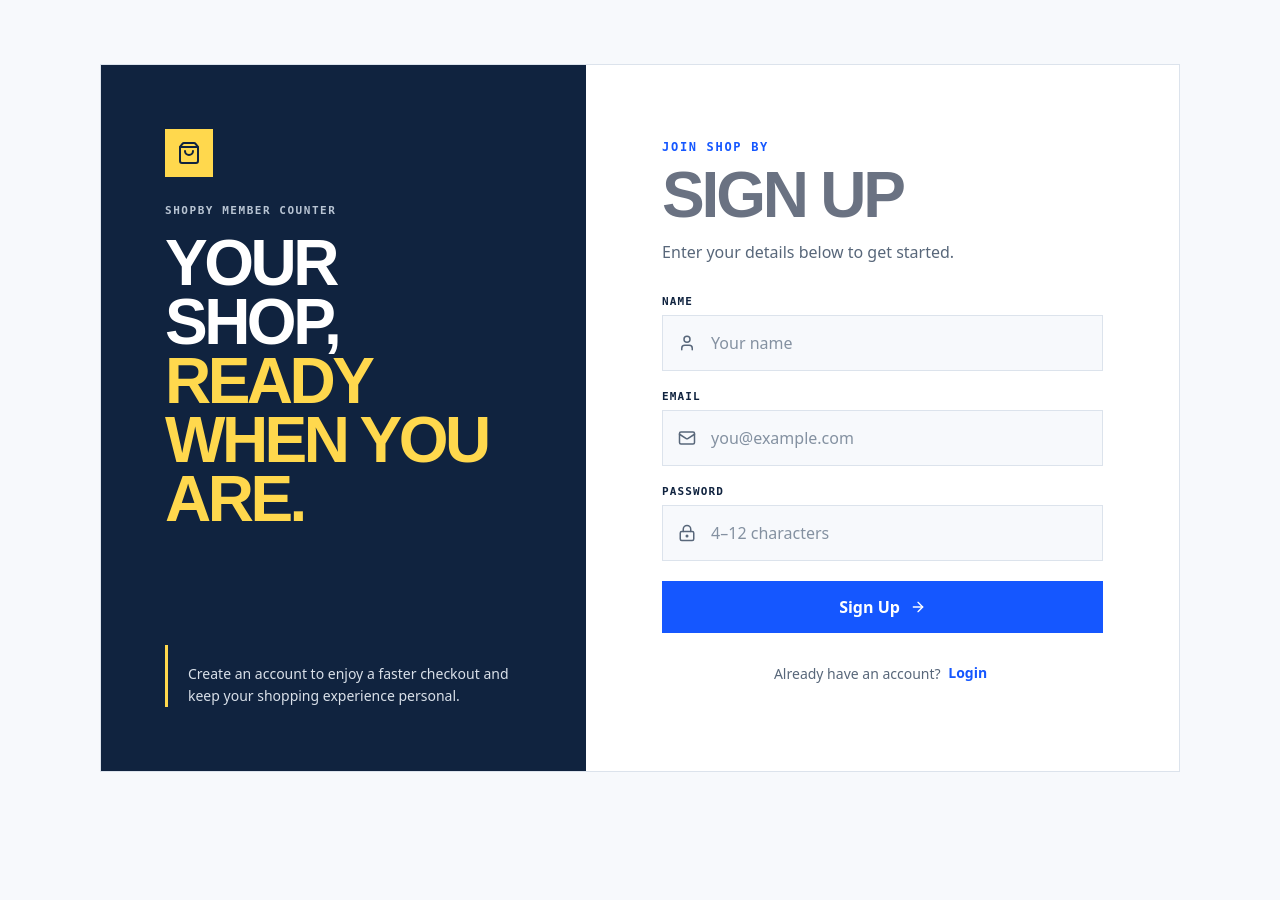
Test case: Auth page › stays on the form and shows the backend registration error
The image size is (1280, 900).
Type "Test User" into the field labelled "Name" at point(883, 343), box [662,315,1103,371]
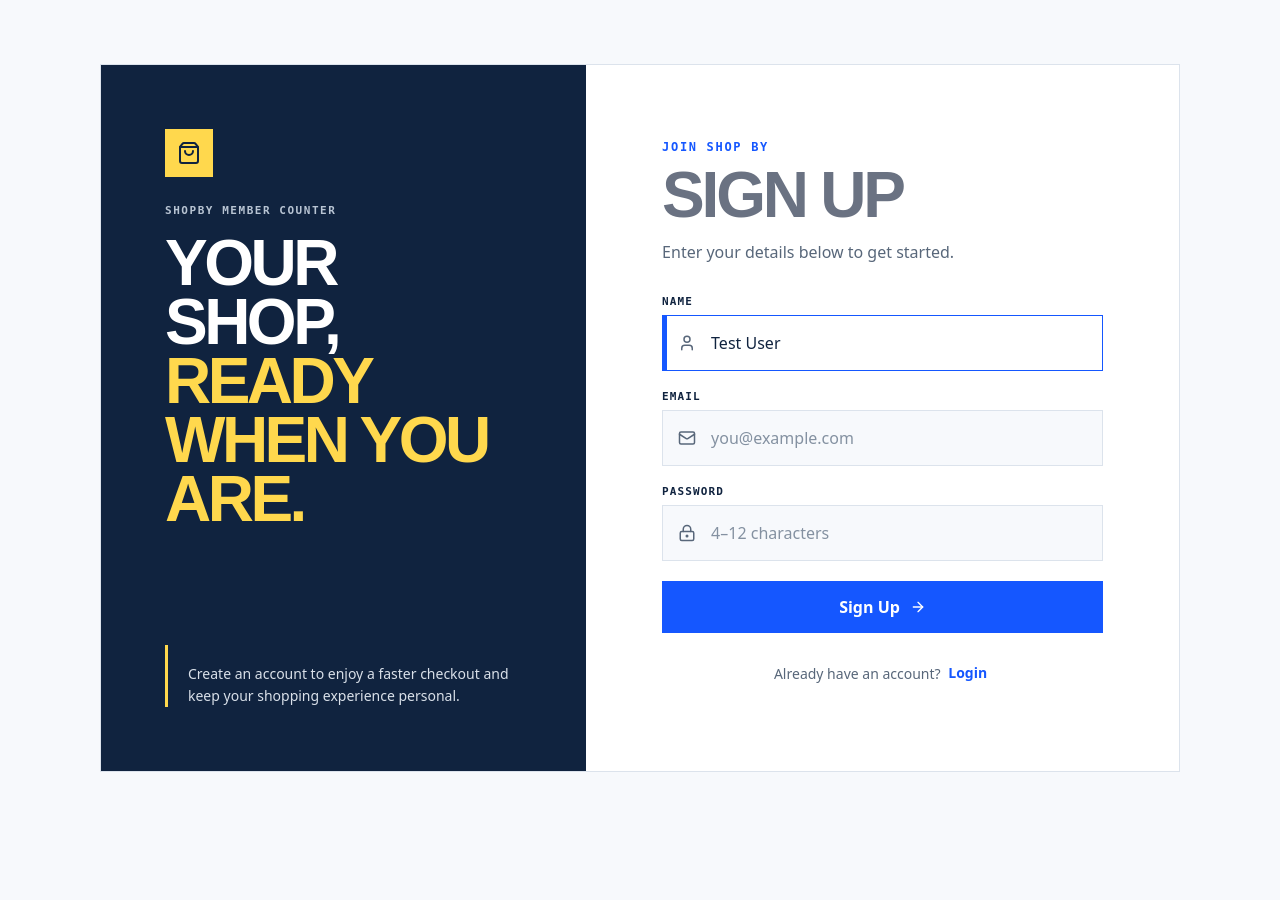
Type "test@example.com" into the field labelled "Email" at point(883, 438), box [662,410,1103,466]
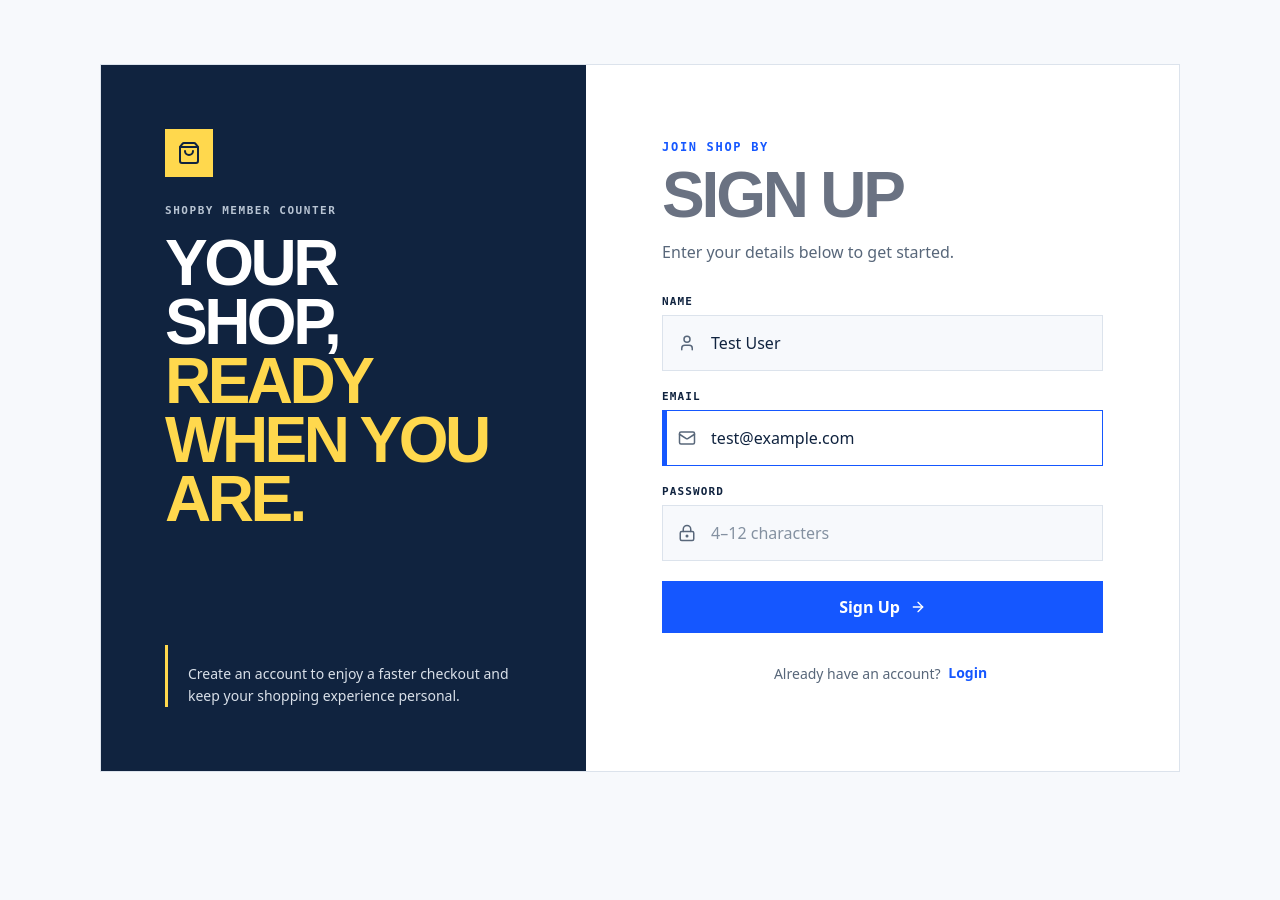
Type "password" into the password field labelled "Password" at point(883, 533), box [662,505,1103,561]
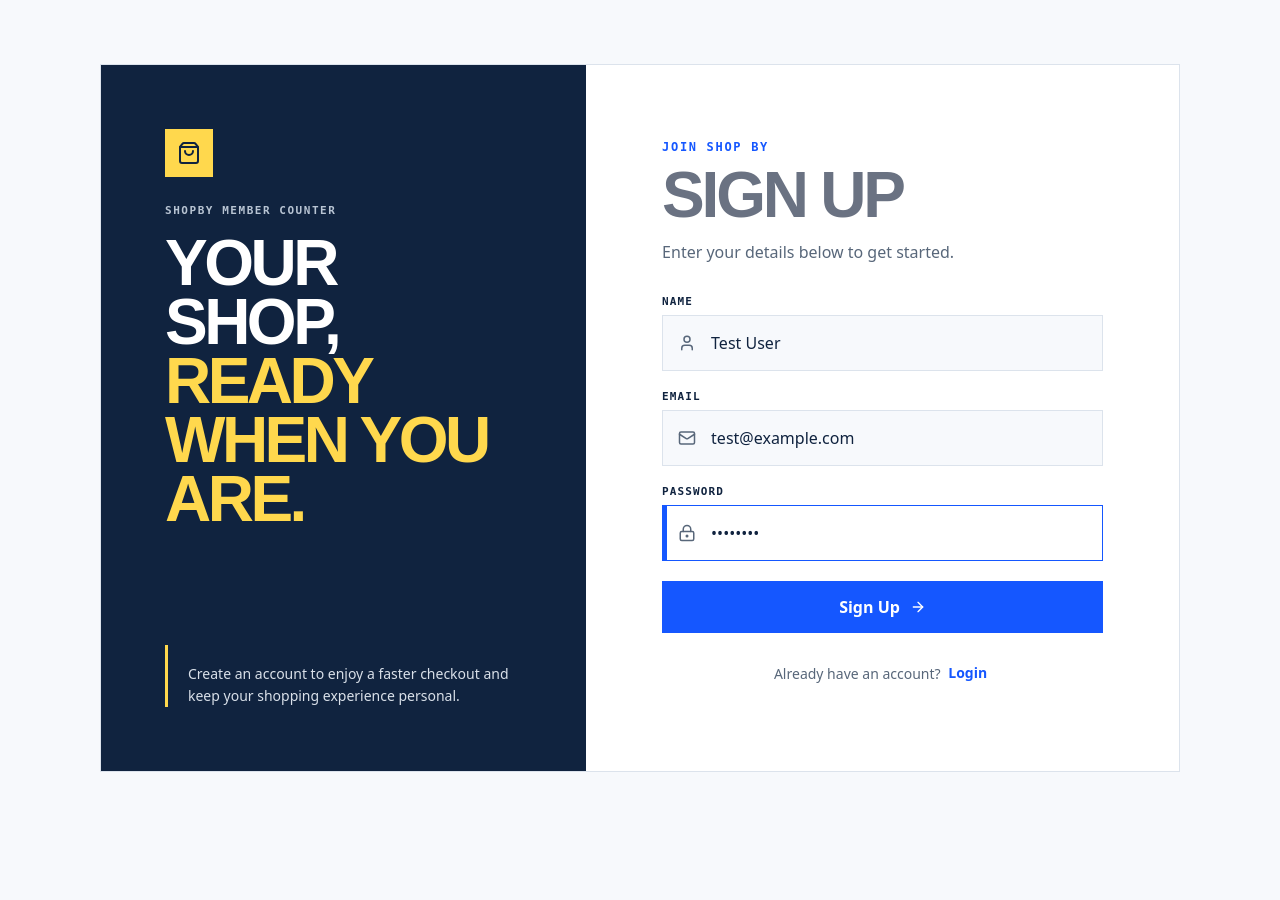
Click the button "Sign Up" at point(883, 607), box [662,581,1103,633]
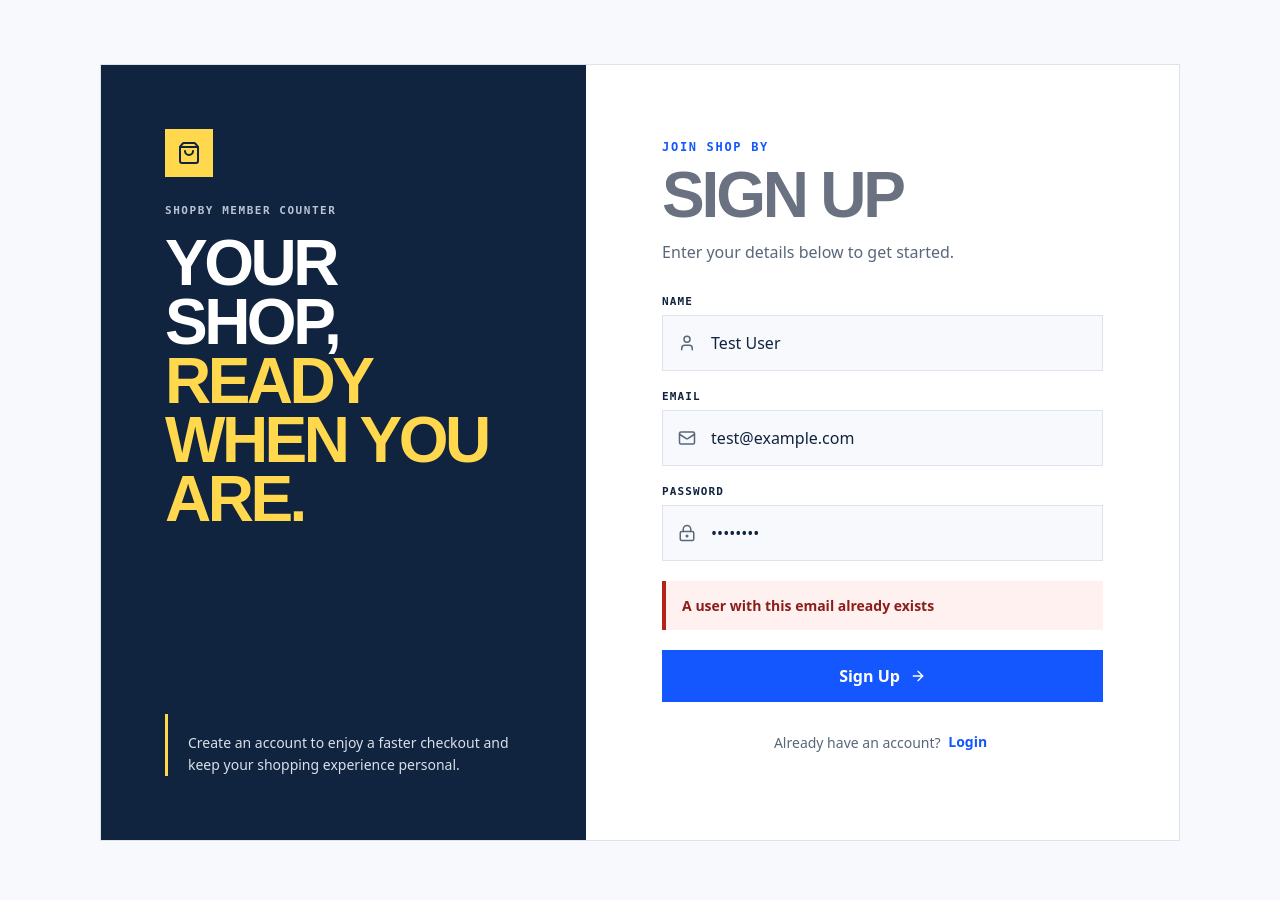
Expected: the heading "Sign Up" is shown, [662,159,903,231]
Now the text "A user with this email already exists" is shown, box [662,581,1103,630]
